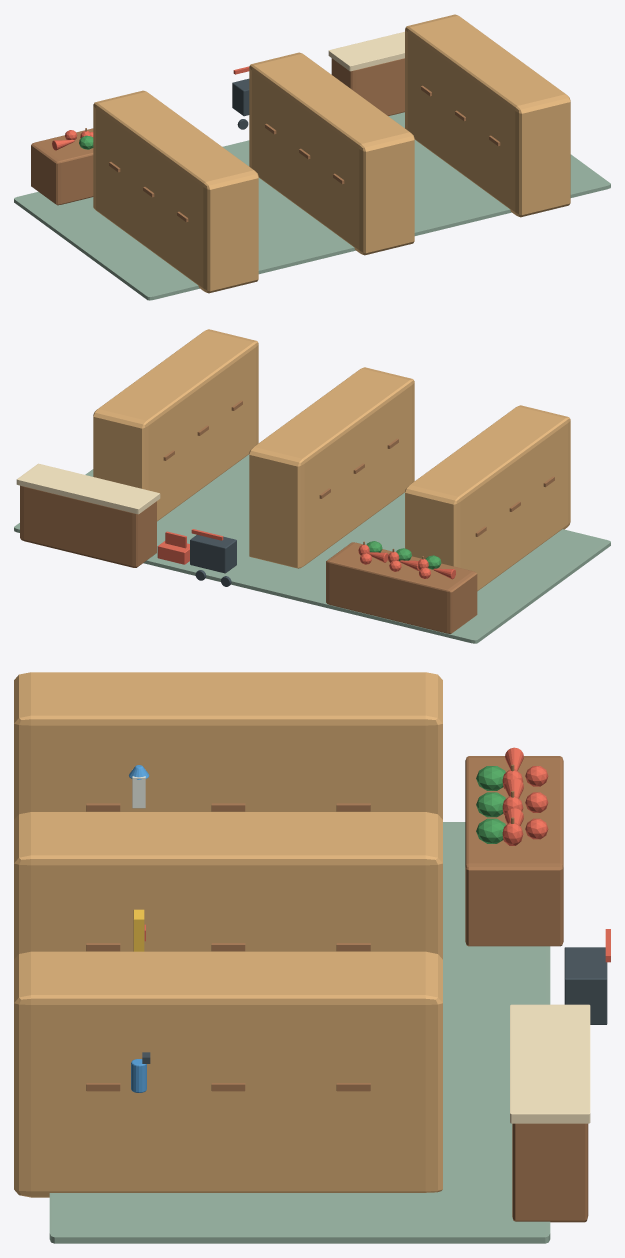
File: grove_grocer.glb
3 renders of one model, top to bottom at view 1: azimuth 30°, elevation 25°; view 2: azimuth 150°, elevation 25°; view 3: azimuth 270°, elevation 25°, orthographic. The views are drawn at different scales.
Visible parts, largest first — view 1: Grocer_Aisle_-23.7, Grocer_Aisle_-16.3, Grocer_Aisle_-20.0, Grocer_Floor_Inset, Grocer_Produce_Table, Grocer_Checkout, Grocer_Checkout_Top, Shopping_Trolley_Basket; view 2: Grocer_Aisle_-20.0, Grocer_Aisle_-16.3, Grocer_Aisle_-23.7, Grocer_Floor_Inset, Grocer_Produce_Table, Grocer_Checkout, Grocer_Checkout_Top, Shopping_Trolley_Basket, Shopping_Basket; view 3: Grocer_Aisle_-16.3, Grocer_Aisle_-20.0, Grocer_Aisle_-23.7, Grocer_Floor_Inset, Grocer_Produce_Table, Grocer_Checkout_Top, Grocer_Checkout, Shopping_Trolley_Basket.
Boxes of the visible parts, <box> form: Grocer_Aisle_-23.7: <box>93,90,258,293</box>; Grocer_Aisle_-16.3: <box>405,14,570,217</box>; Grocer_Aisle_-20.0: <box>249,52,414,255</box>; Grocer_Floor_Inset: <box>14,112,610,300</box>; Grocer_Produce_Table: <box>31,128,93,205</box>; Grocer_Checkout: <box>331,58,404,115</box>; Grocer_Checkout_Top: <box>328,31,404,71</box>; Shopping_Trolley_Basket: <box>232,78,249,116</box>; Grocer_Aisle_-20.0: <box>249,367,414,568</box>; Grocer_Aisle_-16.3: <box>93,329,258,521</box>; Grocer_Aisle_-23.7: <box>405,405,570,591</box>; Grocer_Floor_Inset: <box>14,454,610,643</box>; Grocer_Produce_Table: <box>326,542,477,633</box>; Grocer_Checkout: <box>20,485,156,567</box>; Grocer_Checkout_Top: <box>16,463,160,514</box>; Shopping_Trolley_Basket: <box>190,535,236,573</box>; Shopping_Basket: <box>157,541,189,564</box>; Grocer_Aisle_-16.3: <box>14,951,442,1197</box>; Grocer_Aisle_-20.0: <box>14,812,442,959</box>; Grocer_Aisle_-23.7: <box>14,672,442,819</box>; Grocer_Floor_Inset: <box>49,822,550,1243</box>; Grocer_Produce_Table: <box>465,756,563,946</box>; Grocer_Checkout_Top: <box>510,1004,590,1123</box>; Grocer_Checkout: <box>512,1123,588,1222</box>; Shopping_Trolley_Basket: <box>564,947,607,1024</box>.
Size of the model in its own units: 11 by 2.5 by 6.68.
